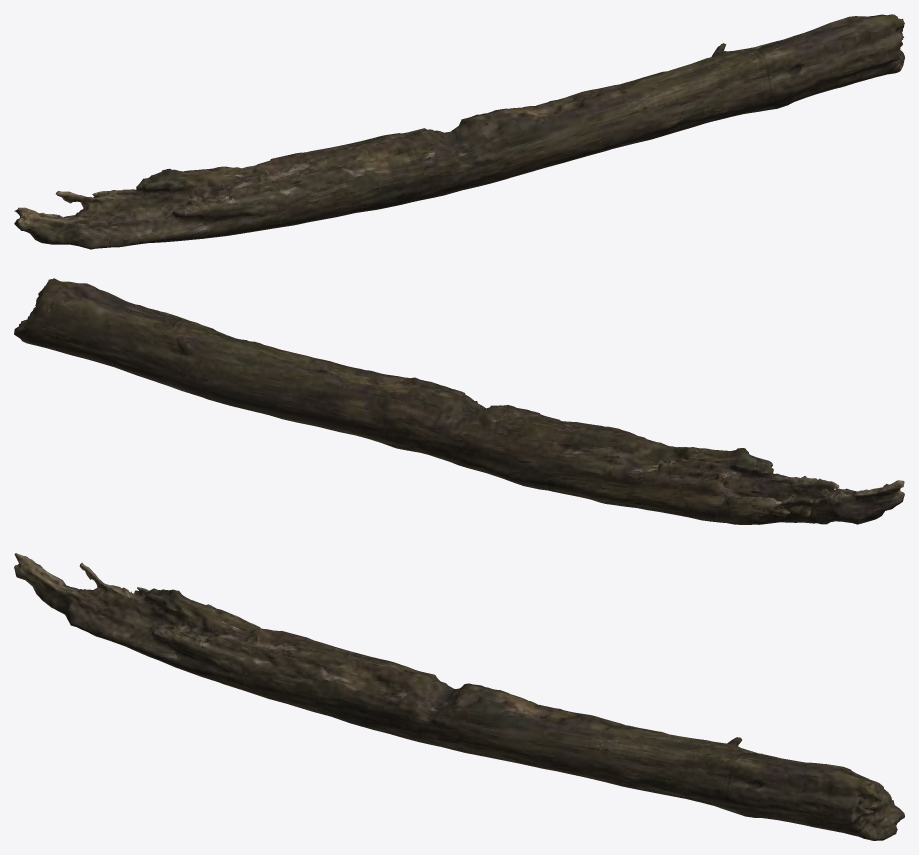
The model's file is grounded-deadwood-quiet.glb.
3 renders of one model, top to bottom at view 1: azimuth 30°, elevation 25°; view 2: azimuth 150°, elevation 25°; view 3: azimuth 330°, elevation 25°, orthographic.
Parts seen in each view (by area): view 1: grounded-deadwood-quiet runtime mesh; view 2: grounded-deadwood-quiet runtime mesh; view 3: grounded-deadwood-quiet runtime mesh.
Boxes of the visible parts, left/top/right/bottom form: grounded-deadwood-quiet runtime mesh: left=14, top=14, right=904, bottom=249; grounded-deadwood-quiet runtime mesh: left=14, top=278, right=904, bottom=524; grounded-deadwood-quiet runtime mesh: left=14, top=553, right=904, bottom=840.
Bounding box in the file's own units: 2.1 × 0.1992 × 0.1905.
Materials: 1 (1 with a texture image).
